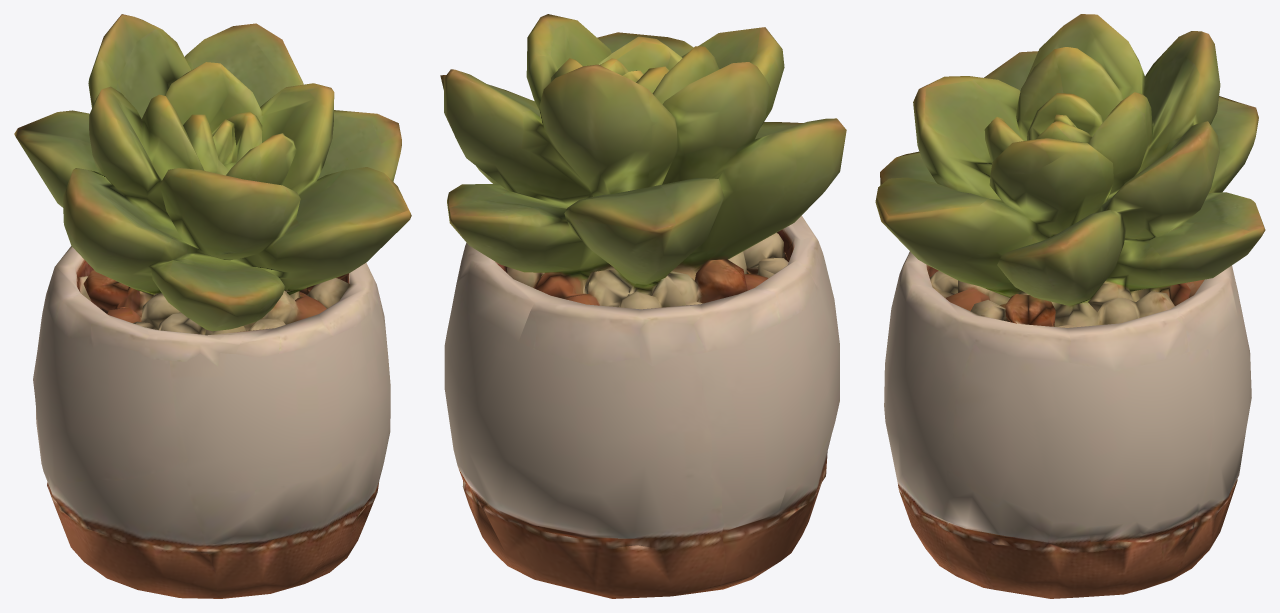
The model's file is plant-small.medium.glb.
The picture shows the model from 3 angles, left to right: view 1: azimuth 30°, elevation 25°; view 2: azimuth 150°, elevation 25°; view 3: azimuth 270°, elevation 25°; orthographic projection. The views are drawn at different scales.
Visible parts, largest first — view 1: tripo_node_fb990ad3-6fc1-434f-bfc6-6bcf948b6287; view 2: tripo_node_fb990ad3-6fc1-434f-bfc6-6bcf948b6287; view 3: tripo_node_fb990ad3-6fc1-434f-bfc6-6bcf948b6287.
Part boxes in pixels (x1=…): tripo_node_fb990ad3-6fc1-434f-bfc6-6bcf948b6287: x1=14, y1=14, x2=411, y2=598; tripo_node_fb990ad3-6fc1-434f-bfc6-6bcf948b6287: x1=440, y1=14, x2=846, y2=598; tripo_node_fb990ad3-6fc1-434f-bfc6-6bcf948b6287: x1=875, y1=14, x2=1265, y2=598.
Size of the model in its own units: 0.1491 by 0.1998 by 0.1416.
1 material, 1 textured.
